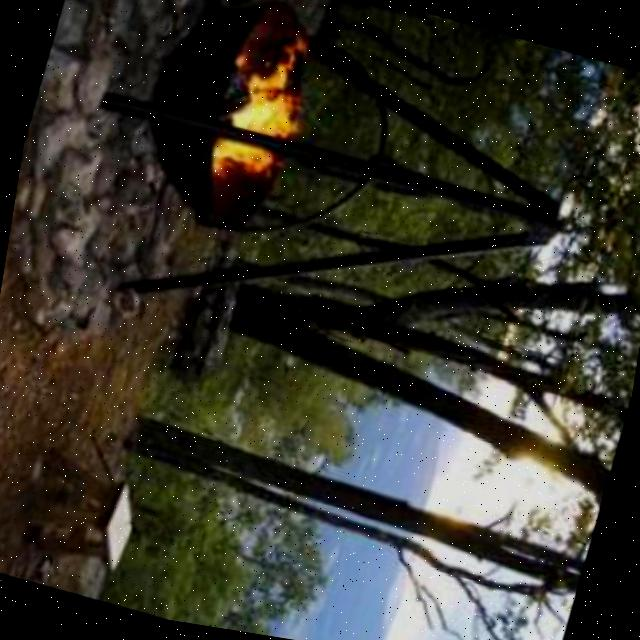fire: (190, 43, 334, 201)
